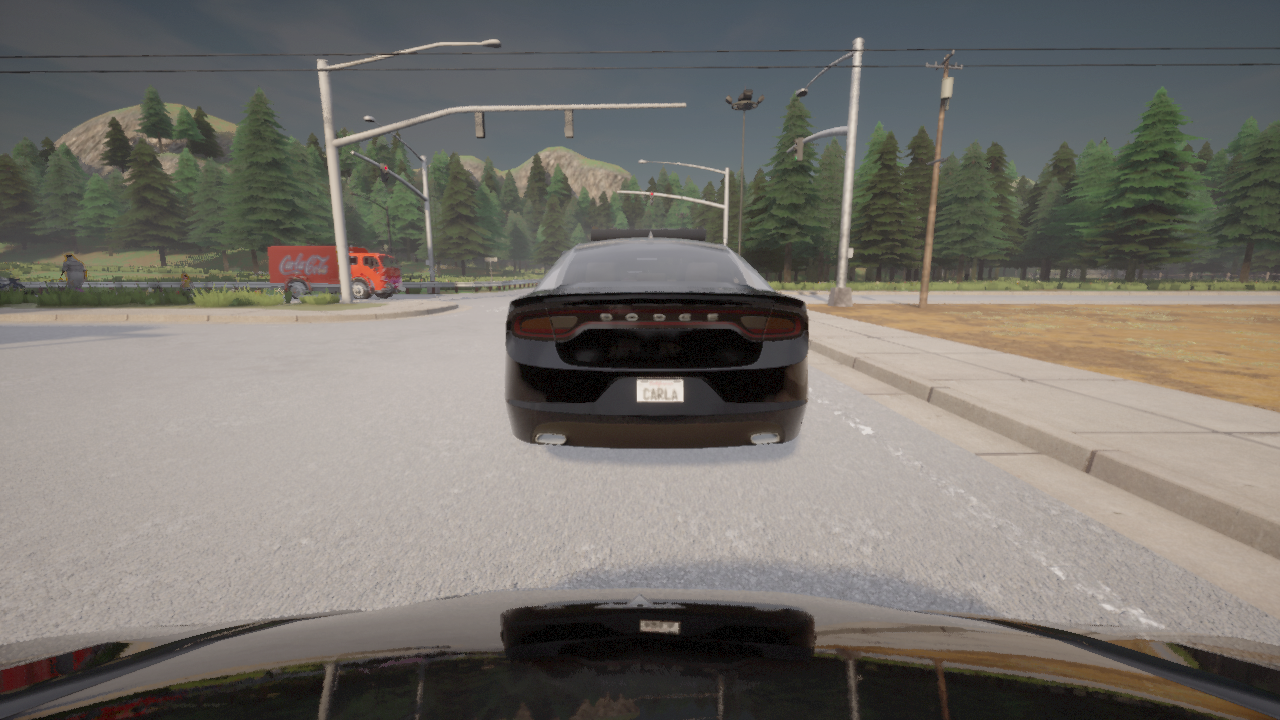cyclist: (0, 588, 1279, 719), (505, 227, 808, 448), (267, 245, 404, 299)
pedestrian: (59, 254, 86, 292), (182, 274, 193, 292)
